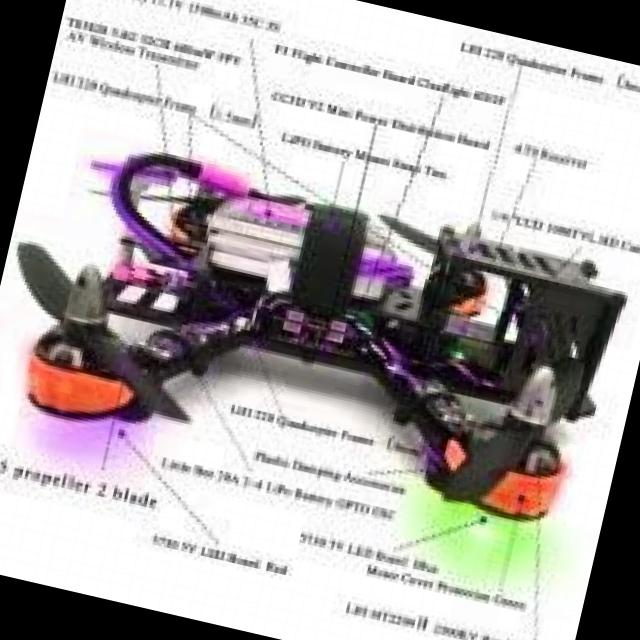drone: (0, 120, 629, 562)
